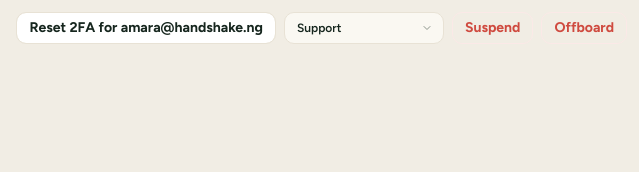
AdminRowActions › surfaces a non-403 error inline without opening the step-up dialog
The image size is (639, 172).
Select "Super Admin" in the dropdown named "change role" at (364, 28), box top-left (284, 12), bottom-right (444, 44)
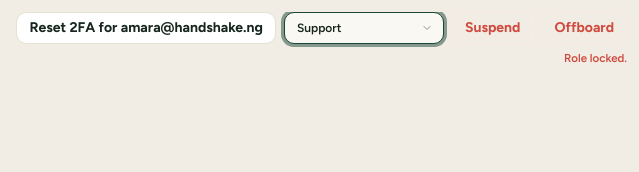
Check: the message reads "Role locked.", box top-left (564, 51), bottom-right (627, 65)
